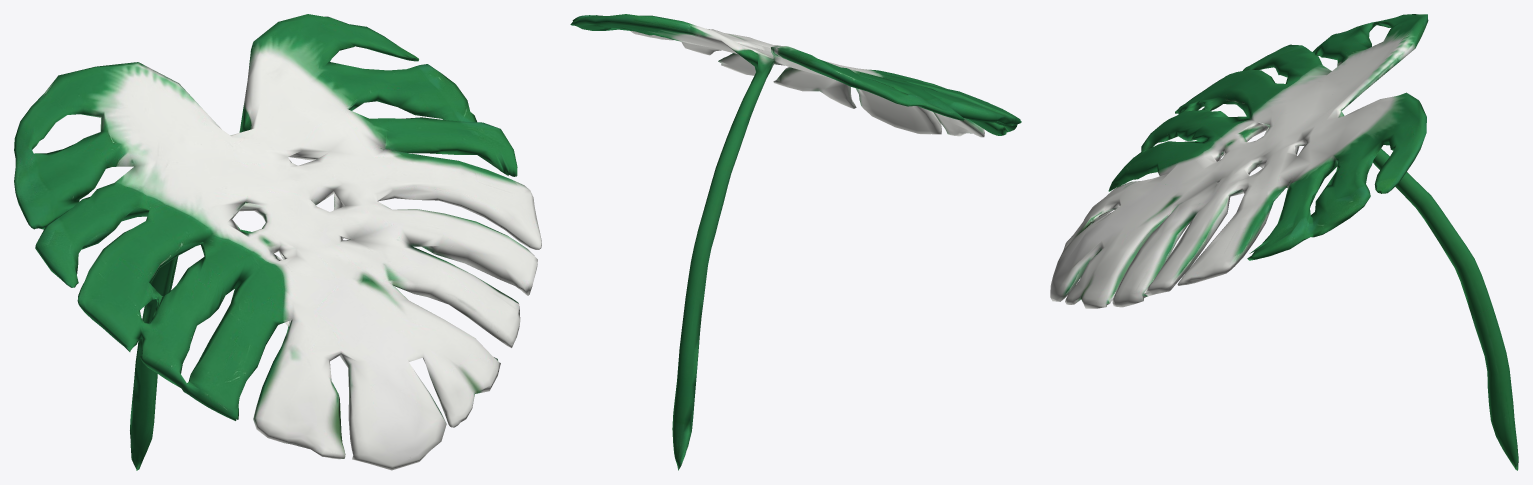
The model's file is mon_halfmoon_greencream.glb.
3 renders of one model, left to right at view 1: azimuth 30°, elevation 25°; view 2: azimuth 150°, elevation 25°; view 3: azimuth 270°, elevation 25°, orthographic. The views are drawn at different scales.
Size of the model in its own units: 1.99 by 1.91 by 2.
1 material, 1 textured.
